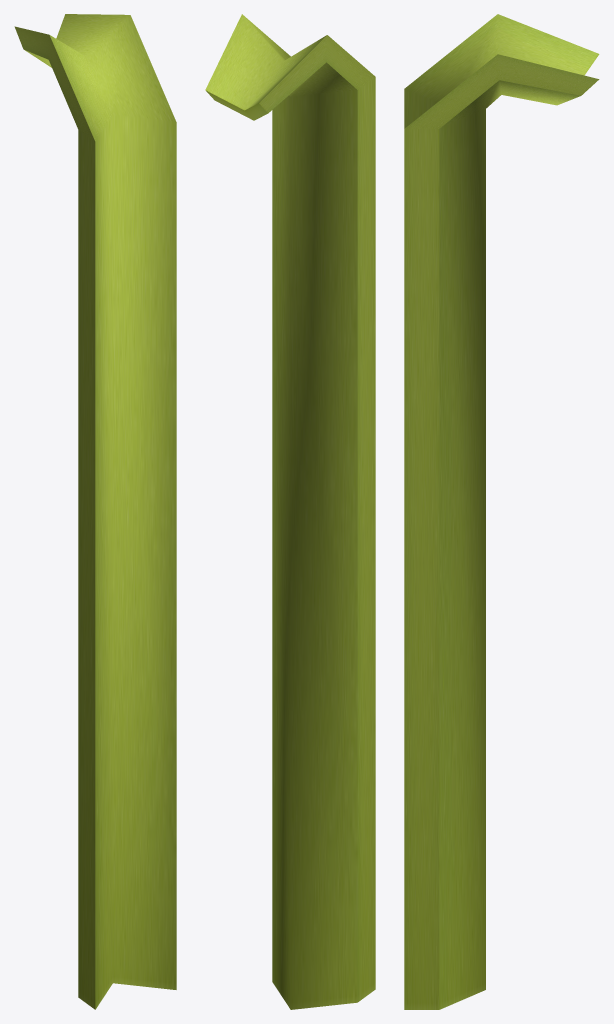
Rendered from shoe helper.FBX.
The picture shows the model from 3 angles, left to right: view 1: azimuth 30°, elevation 25°; view 2: azimuth 150°, elevation 25°; view 3: azimuth 270°, elevation 25°; orthographic projection. The views are drawn at different scales.
Visible parts, largest first — view 1: Box001; view 2: Box001; view 3: Box001.
Part boxes in pixels (x1,y1,x2,y2): Box001: (14, 14, 176, 1009); Box001: (205, 14, 375, 1009); Box001: (404, 14, 599, 1009).
Size of the model in its own units: 5.97 by 66.22 by 12.25.
1 material, 1 textured.
